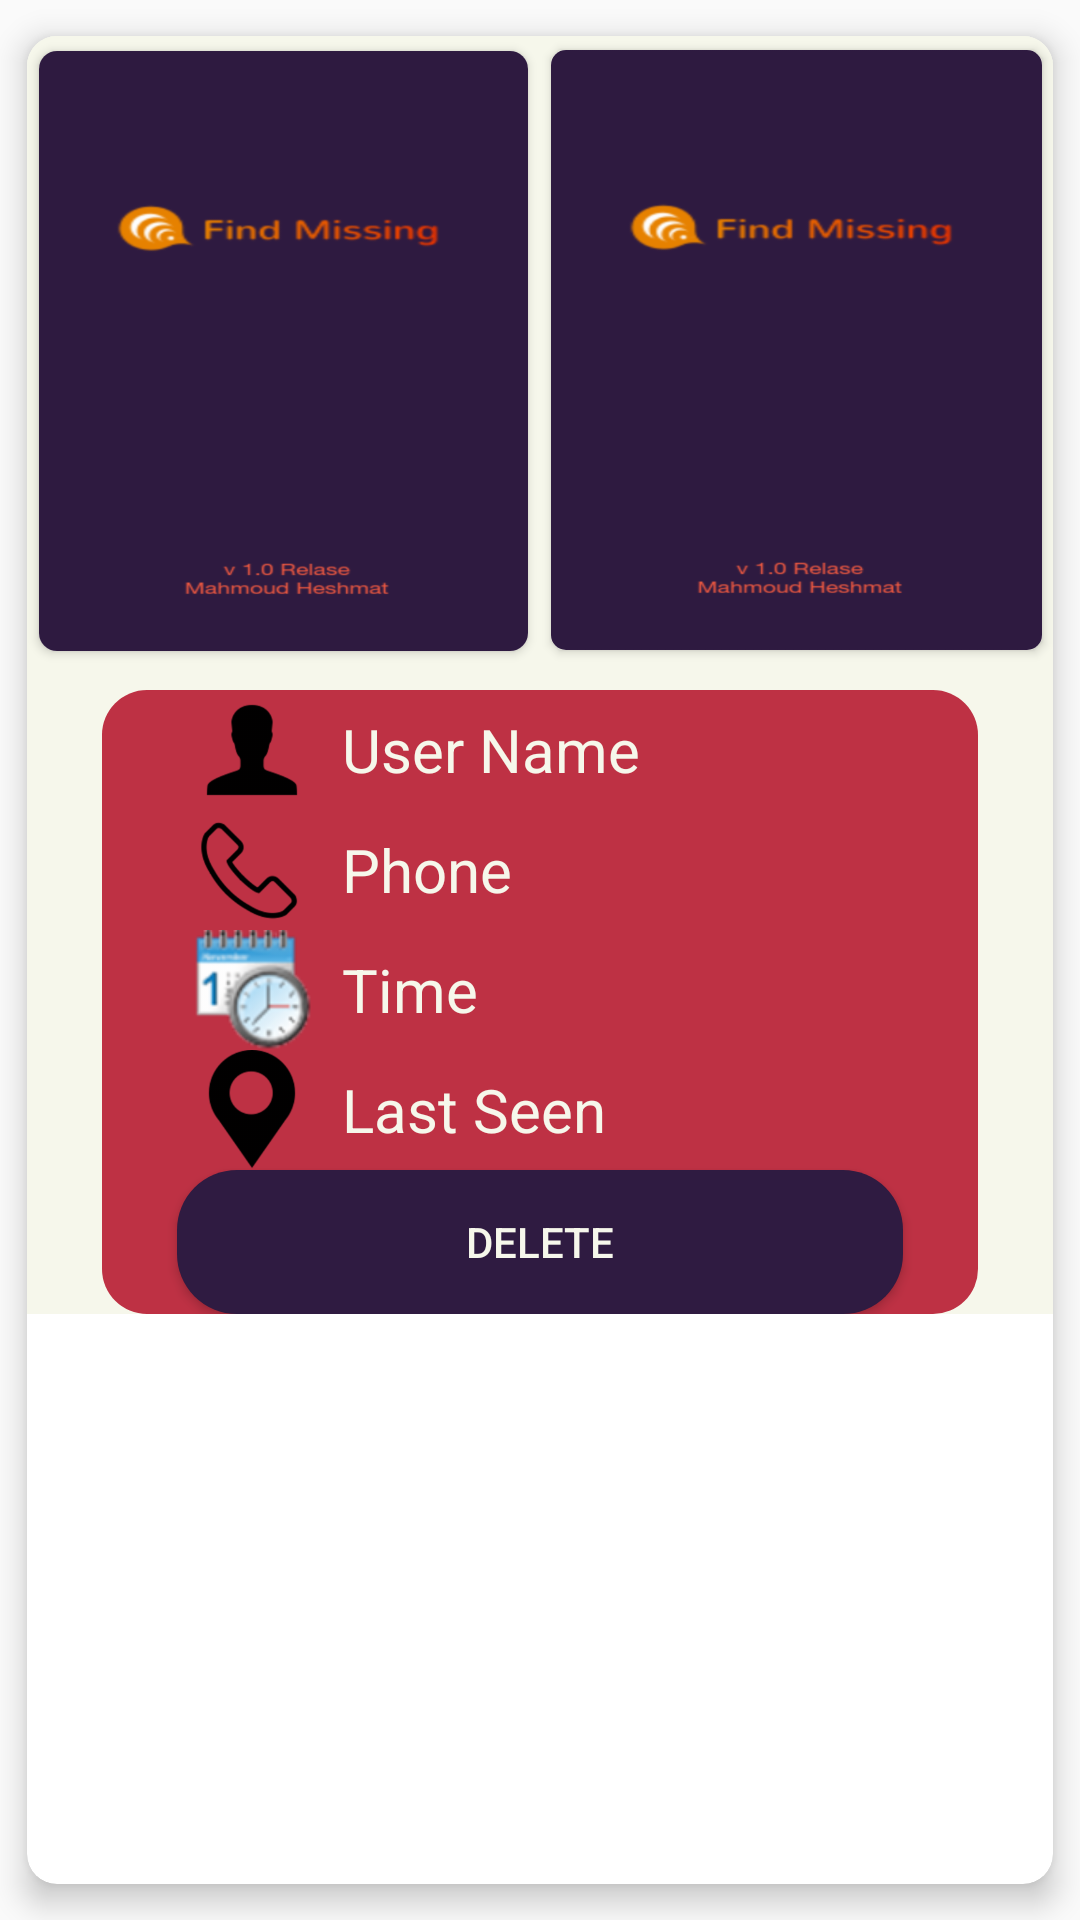

Where icons sit on this 1080 × 1920 app screen, as (x1, y1, x2, y2):
date: (196, 930, 311, 1049)
location: (208, 1050, 296, 1168)
person: (207, 705, 297, 795)
